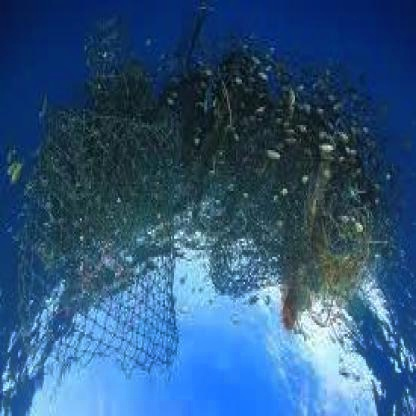net: (21, 66, 369, 364)
